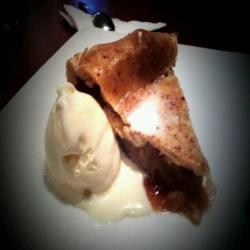apple_pie: (57, 31, 237, 220)
icecream: (35, 80, 129, 203)
